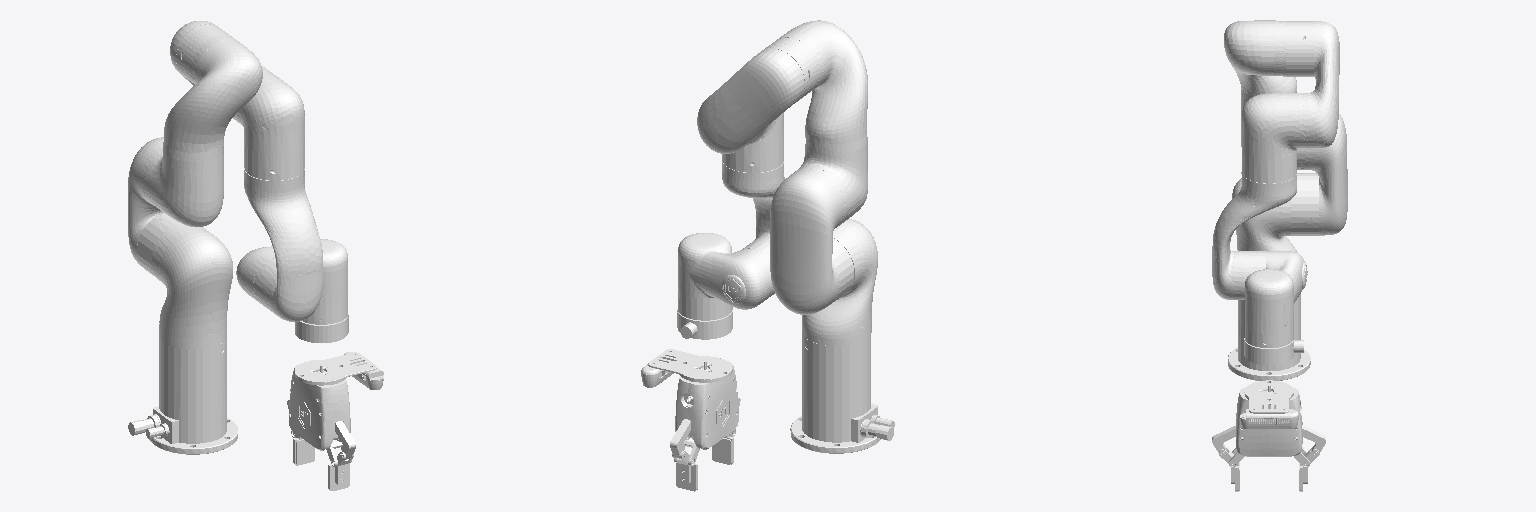
The robot description file, URDF, robot "converted_robot":
<?xml version="1.0" ?>
<robot name="converted_robot">
   <link name="world">
      <inertial>
         <origin xyz="0.0 0.0 0.0" rpy="0.0 0.0 0.0"/>
         <mass value="0.0"/>
         <inertia ixx="0.0" iyy="0.0" izz="0.0" ixy="0" ixz="0" iyz="0"/>
      </inertial>
      <visual name="base">
         <origin xyz="-0.001988568020268065 0.00011251475491376964 0.06484099137569184" rpy="0.04439421331694594 0.00023003077050942622 1.5061911797633354"/>
         <geometry>
            <mesh filename="converted_base.stl"/>
         </geometry>
         <material name="white"/>
      </visual>
   </link>
   <link name="link1">
      <inertial>
         <origin xyz="0.00022 0.02951 -0.0124" rpy="0.4355485641645795 -0.01151975215954959 0.03408854412398267"/>
         <mass value="2.3814"/>
         <inertia ixx="0.00585677" iyy="0.00544457" izz="0.00312311" ixy="0" ixz="0" iyz="0"/>
      </inertial>
      <visual name="link1">
         <origin xyz="-0.00013218954812539433 0.007464197279856433 -0.02711553977556827" rpy="-0.33362300930831684 0.0034678881741270207 -0.002737431020260937"/>
         <geometry>
            <mesh filename="converted_link1.stl"/>
         </geometry>
         <material name="white"/>
      </visual>
   </link>
   <link name="joint1">
      <inertial>
         <origin xyz="0.0 0.0 0.0" rpy="0.0 0.0 0.0"/>
         <mass value="0.001"/>
         <inertia ixx="1e-09" iyy="1e-09" izz="1e-09" ixy="0" ixz="0" iyz="0"/>
      </inertial>
   </link>
   <joint type="revolute" name="joint1">
      <parent link="world"/>
      <child link="joint1"/>
      <origin xyz="0.0 0.0 0.267" rpy="0.0 0.0 0.0"/>
      <axis xyz="0.0 0.0 1.0"/>
      <limit lower="-3.11018" upper="3.11018" effort="100" velocity="100"/>
   </joint>
   <joint type="fixed" name="joint1_offset">
      <parent link="joint1"/>
      <child link="link1"/>
      <origin xyz="-0.0 -0.0 -0.0" rpy="0.0 0.0 0.0"/>
   </joint>
   <link name="link2">
      <inertial>
         <origin xyz="0.03881 -0.22783 0.03496" rpy="1.348973079365043 0.589472079798409 -0.32201355688466154"/>
         <mass value="2.2675"/>
         <inertia ixx="0.0304531" iyy="0.0270745" izz="0.0039329" ixy="0" ixz="0" iyz="0"/>
      </inertial>
      <visual name="link2">
         <origin xyz="0.014875566187991445 -0.16194855468132002 0.02964404368210932" rpy="1.9174384122134032 0.3390205710115355 0.2968760087267535"/>
         <geometry>
            <mesh filename="converted_link2.stl"/>
         </geometry>
         <material name="white"/>
      </visual>
   </link>
   <link name="joint2">
      <inertial>
         <origin xyz="0.0 0.0 0.0" rpy="0.0 0.0 0.0"/>
         <mass value="0.001"/>
         <inertia ixx="1e-09" iyy="1e-09" izz="1e-09" ixy="0" ixz="0" iyz="0"/>
      </inertial>
   </link>
   <joint type="revolute" name="joint2">
      <parent link="link1"/>
      <child link="joint2"/>
      <origin xyz="0.0 0.0 0.0" rpy="-1.5708005694372709 0.0 0.0"/>
      <axis xyz="0.0 0.0 1.0"/>
      <limit lower="-2.059" upper="2.0944" effort="100" velocity="100"/>
   </joint>
   <joint type="fixed" name="joint2_offset">
      <parent link="joint2"/>
      <child link="link2"/>
      <origin xyz="-0.0 -0.0 -0.0" rpy="0.0 0.0 0.0"/>
   </joint>
   <link name="link3">
      <inertial>
         <origin xyz="0.07041 0.11631 0.0107" rpy="-2.107790652059732 -0.6582306530693534 -2.515252296079175"/>
         <mass value="1.875"/>
         <inertia ixx="0.00536785" iyy="0.00536785" izz="0.00536785" ixy="0" ixz="0" iyz="0"/>
      </inertial>
      <visual name="link3">
         <origin xyz="0.05915374366666802 0.07651418456626077 0.04021116008138051" rpy="0.9997568989372841 0.1766060258401485 -0.6619722856298305"/>
         <geometry>
            <mesh filename="converted_link3.stl"/>
         </geometry>
         <material name="white"/>
      </visual>
   </link>
   <link name="joint3">
      <inertial>
         <origin xyz="0.0 0.0 0.0" rpy="0.0 0.0 0.0"/>
         <mass value="0.001"/>
         <inertia ixx="1e-09" iyy="1e-09" izz="1e-09" ixy="0" ixz="0" iyz="0"/>
      </inertial>
   </link>
   <joint type="revolute" name="joint3">
      <parent link="link2"/>
      <child link="joint3"/>
      <origin xyz="0.0535 -0.2845 0.0" rpy="0.0 0.0 0.0"/>
      <axis xyz="0.0 0.0 1.0"/>
      <limit lower="-3.11018" upper="0.19198" effort="100" velocity="100"/>
   </joint>
   <joint type="fixed" name="joint3_offset">
      <parent link="joint3"/>
      <child link="link3"/>
      <origin xyz="-0.0 -0.0 -0.0" rpy="0.0 0.0 0.0"/>
   </joint>
   <link name="link4">
      <inertial>
         <origin xyz="-0.00018 0.01798 -0.02291" rpy="0.07382928357874731 -0.005198268016330498 0.01850720867997557"/>
         <mass value="1.3192"/>
         <inertia ixx="0.0048962" iyy="0.00447396" izz="0.0013261" ixy="0" ixz="0" iyz="0"/>
      </inertial>
      <visual name="link4">
         <origin xyz="-0.0001933115420370148 0.031599603176915084 -0.07229682669267906" rpy="-0.2899363380198844 0.004123601154868206 0.015988586424917947"/>
         <geometry>
            <mesh filename="converted_link4.stl"/>
         </geometry>
         <material name="white"/>
      </visual>
   </link>
   <link name="joint4">
      <inertial>
         <origin xyz="0.0 0.0 0.0" rpy="0.0 0.0 0.0"/>
         <mass value="0.001"/>
         <inertia ixx="1e-09" iyy="1e-09" izz="1e-09" ixy="0" ixz="0" iyz="0"/>
      </inertial>
   </link>
   <joint type="revolute" name="joint4">
      <parent link="link3"/>
      <child link="joint4"/>
      <origin xyz="0.0775 0.3425 0.0" rpy="-1.5708005694372709 0.0 0.0"/>
      <axis xyz="0.0 0.0 1.0"/>
      <limit lower="-3.11018" upper="3.11018" effort="100" velocity="100"/>
   </joint>
   <joint type="fixed" name="joint4_offset">
      <parent link="joint4"/>
      <child link="link4"/>
      <origin xyz="-0.0 -0.0 -0.0" rpy="0.0 0.0 0.0"/>
   </joint>
   <link name="link5">
      <inertial>
         <origin xyz="0.0651 0.03096 0.00315" rpy="-1.3129473580943467 -0.9673430130256786 -2.33246926539584"/>
         <mass value="1.33854"/>
         <inertia ixx="0.00253403" iyy="0.00196507" izz="0.00114012" ixy="0" ixz="0" iyz="0"/>
      </inertial>
      <visual name="link5">
         <origin xyz="0.048892960928717207 0.011180520389591274 0.009056193467818132" rpy="-2.9389689832315877 -1.280443051852528 0.09467892860533325"/>
         <geometry>
            <mesh filename="converted_link5.stl"/>
         </geometry>
         <material name="white"/>
      </visual>
   </link>
   <link name="joint5">
      <inertial>
         <origin xyz="0.0 0.0 0.0" rpy="0.0 0.0 0.0"/>
         <mass value="0.001"/>
         <inertia ixx="1e-09" iyy="1e-09" izz="1e-09" ixy="0" ixz="0" iyz="0"/>
      </inertial>
   </link>
   <joint type="revolute" name="joint5">
      <parent link="link4"/>
      <child link="joint5"/>
      <origin xyz="0.0 0.0 0.0" rpy="1.5708005694372709 0.0 0.0"/>
      <axis xyz="0.0 0.0 1.0"/>
      <limit lower="-1.69297" upper="3.11018" effort="100" velocity="100"/>
   </joint>
   <joint type="fixed" name="joint5_offset">
      <parent link="joint5"/>
      <child link="link5"/>
      <origin xyz="-0.0 -0.0 -0.0" rpy="0.0 0.0 0.0"/>
   </joint>
   <link name="link6">
      <inertial>
         <origin xyz="0.0046396 -0.00165489 0.0681261" rpy="0.020458185813497568 0.026800705860281715 1.5773080767471808"/>
         <mass value="1.38018"/>
         <inertia ixx="0.00334838" iyy="0.00302786" izz="0.0011071" ixy="0" ixz="0" iyz="0"/>
      </inertial>
      <visual name="end_tool">
         <origin xyz="3.4268701643423586e-08 -0.001435304389793365 -0.013516014948721122" rpy="-3.1415761422693795 -1.5687955686077422 -1.5707963267948966"/>
         <geometry>
            <mesh filename="converted_end_tool.stl"/>
         </geometry>
         <material name="white"/>
      </visual>
      <visual name="ft_sensor_scaled">
         <origin xyz="-0.0025413173168710784 0.0012844602929361069 0.02934122839286124" rpy="-3.106501645314344 -1.3615361730076154 2.57565154603999"/>
         <geometry>
            <mesh filename="converted_ft_sensor_scaled.stl"/>
         </geometry>
         <material name="white"/>
      </visual>
      <visual name="d435_with_cam_stand">
         <origin xyz="0.05319046898036692 -0.0010342940638096278 0.072628412908257" rpy="-0.03274316095589082 -1.381627305955616 3.139114546177682"/>
         <geometry>
            <mesh filename="converted_d435_with_cam_stand.stl"/>
         </geometry>
         <material name="white"/>
      </visual>
      <visual name="base_link">
         <origin xyz="-0.0013675233777249022 0.00018071029397544007 0.10590832027619651" rpy="0.03567861154889 -0.06311112110604888 -0.00044563792998500315"/>
         <geometry>
            <mesh filename="converted_base_link.stl"/>
         </geometry>
         <material name="white"/>
      </visual>
   </link>
   <link name="joint6">
      <inertial>
         <origin xyz="0.0 0.0 0.0" rpy="0.0 0.0 0.0"/>
         <mass value="0.001"/>
         <inertia ixx="1e-09" iyy="1e-09" izz="1e-09" ixy="0" ixz="0" iyz="0"/>
      </inertial>
   </link>
   <joint type="revolute" name="joint6">
      <parent link="link5"/>
      <child link="joint6"/>
      <origin xyz="0.076 0.097 0.0" rpy="-1.5708005694372709 0.0 0.0"/>
      <axis xyz="0.0 0.0 1.0"/>
      <limit lower="-3.11018" upper="3.11018" effort="100" velocity="100"/>
   </joint>
   <joint type="fixed" name="joint6_offset">
      <parent link="joint6"/>
      <child link="link6"/>
      <origin xyz="-0.0 -0.0 -0.0" rpy="0.0 0.0 0.0"/>
   </joint>
   <link name="link_eef">
      <inertial>
         <origin xyz="0.0 0.0 0.0" rpy="0.0 0.0 0.0"/>
         <mass value="0.0"/>
         <inertia ixx="0.0" iyy="0.0" izz="0.0" ixy="0" ixz="0" iyz="0"/>
      </inertial>
   </link>
   <link name="link62link_eef_fixed">
      <inertial>
         <origin xyz="0.0 0.0 0.0" rpy="0.0 0.0 0.0"/>
         <mass value="0.001"/>
         <inertia ixx="1e-09" iyy="1e-09" izz="1e-09" ixy="0" ixz="0" iyz="0"/>
      </inertial>
   </link>
   <joint type="fixed" name="link62link_eef_fixed">
      <parent link="link6"/>
      <child link="link62link_eef_fixed"/>
      <origin xyz="0.0 0.0 0.0" rpy="0.0 0.0 0.0"/>
   </joint>
   <joint type="fixed" name="link62link_eef_fixed_offset">
      <parent link="link62link_eef_fixed"/>
      <child link="link_eef"/>
      <origin xyz="-0.0 -0.0 -0.0" rpy="0.0 0.0 0.0"/>
   </joint>
   <link name="link_tcp">
      <inertial>
         <origin xyz="0.0 0.0 0.0" rpy="0.0 0.0 0.0"/>
         <mass value="0.0"/>
         <inertia ixx="0.0" iyy="0.0" izz="0.0" ixy="0" ixz="0" iyz="0"/>
      </inertial>
   </link>
   <link name="link_eef2link_tcp_fixed">
      <inertial>
         <origin xyz="0.0 0.0 0.0" rpy="0.0 0.0 0.0"/>
         <mass value="0.001"/>
         <inertia ixx="1e-09" iyy="1e-09" izz="1e-09" ixy="0" ixz="0" iyz="0"/>
      </inertial>
   </link>
   <joint type="fixed" name="link_eef2link_tcp_fixed">
      <parent link="link_eef"/>
      <child link="link_eef2link_tcp_fixed"/>
      <origin xyz="0.0 0.0 0.2" rpy="-1.5699435554720513 -1.5664889788184846 -1.5716491060286246"/>
   </joint>
   <joint type="fixed" name="link_eef2link_tcp_fixed_offset">
      <parent link="link_eef2link_tcp_fixed"/>
      <child link="link_tcp"/>
      <origin xyz="-0.0 -0.0 -0.0" rpy="0.0 0.0 0.0"/>
   </joint>
   <link name="left_outer_knuckle">
      <inertial>
         <origin xyz="0.0 0.021559 0.015181" rpy="2.145090756651822 0.0 0.0"/>
         <mass value="0.033618"/>
         <inertia ixx="1.9111e-05" iyy="1.79089e-05" izz="1.90167e-06" ixy="0" ixz="0" iyz="0"/>
      </inertial>
      <visual name="left_outer_knuckle">
         <origin xyz="2.459128747530784e-11 0.01732745566852309 0.015107389964830558" rpy="2.135531627703855 0.0 0.0"/>
         <geometry>
            <mesh filename="converted_left_outer_knuckle.stl"/>
         </geometry>
         <material name="white"/>
      </visual>
   </link>
   <link name="drive_joint">
      <inertial>
         <origin xyz="0.0 0.0 0.0" rpy="0.0 0.0 0.0"/>
         <mass value="0.001"/>
         <inertia ixx="1e-09" iyy="1e-09" izz="1e-09" ixy="0" ixz="0" iyz="0"/>
      </inertial>
   </link>
   <joint type="revolute" name="drive_joint">
      <parent link="link_eef"/>
      <child link="drive_joint"/>
      <origin xyz="0.0 0.035 0.119098" rpy="0.0 0.0 0.0"/>
      <axis xyz="1.0 0.0 0.0"/>
      <limit lower="0.0" upper="0.85" effort="100" velocity="100"/>
   </joint>
   <joint type="fixed" name="drive_joint_offset">
      <parent link="drive_joint"/>
      <child link="left_outer_knuckle"/>
      <origin xyz="-0.0 -0.0 -0.0" rpy="0.0 0.0 0.0"/>
   </joint>
   <link name="left_finger">
      <inertial>
         <origin xyz="0.0 -0.016413 0.029258" rpy="0.0 -0.32773246497472885 1.5707963267948966"/>
         <mass value="0.048304"/>
         <inertia ixx="1.88037e-05" iyy="1.7493e-05" izz="3.56792e-06" ixy="0" ixz="0" iyz="0"/>
      </inertial>
      <visual name="left_finger">
         <origin xyz="1.4807619616801453e-05 -0.015549807258493559 0.028040098559196317" rpy="-0.001912485275442726 -0.365143411739667 1.5726924743770283"/>
         <geometry>
            <mesh filename="converted_left_finger.stl"/>
         </geometry>
         <material name="white"/>
      </visual>
   </link>
   <link name="left_finger_joint">
      <inertial>
         <origin xyz="0.0 0.0 0.0" rpy="0.0 0.0 0.0"/>
         <mass value="0.001"/>
         <inertia ixx="1e-09" iyy="1e-09" izz="1e-09" ixy="0" ixz="0" iyz="0"/>
      </inertial>
   </link>
   <joint type="revolute" name="left_finger_joint">
      <parent link="left_outer_knuckle"/>
      <child link="left_finger_joint"/>
      <origin xyz="0.0 0.035465 0.042039" rpy="0.0 0.0 0.0"/>
      <axis xyz="-1.0 0.0 0.0"/>
      <limit lower="0.0" upper="0.85" effort="100" velocity="100"/>
   </joint>
   <joint type="fixed" name="left_finger_joint_offset">
      <parent link="left_finger_joint"/>
      <child link="left_finger"/>
      <origin xyz="-0.0 -0.0 -0.0" rpy="0.0 0.0 0.0"/>
   </joint>
   <link name="left_inner_knuckle">
      <inertial>
         <origin xyz="1.86601e-06 0.0220468 0.0261335" rpy="-2.8572677202568355e-05 0.7007746676036897 1.5707964243166743"/>
         <mass value="0.0230126"/>
         <inertia ixx="8.34216e-06" iyy="6.0949e-06" izz="2.75601e-06" ixy="0" ixz="0" iyz="0"/>
      </inertial>
      <visual name="left_inner_knuckle">
         <origin xyz="2.8477847106074318e-05 0.020923749754326485 0.02480264390787294" rpy="0.002795912857278782 0.7007662187921664 1.5706785731507964"/>
         <geometry>
            <mesh filename="converted_left_inner_knuckle.stl"/>
         </geometry>
         <material name="white"/>
      </visual>
   </link>
   <link name="left_inner_knuckle_joint">
      <inertial>
         <origin xyz="0.0 0.0 0.0" rpy="0.0 0.0 0.0"/>
         <mass value="0.001"/>
         <inertia ixx="1e-09" iyy="1e-09" izz="1e-09" ixy="0" ixz="0" iyz="0"/>
      </inertial>
   </link>
   <joint type="revolute" name="left_inner_knuckle_joint">
      <parent link="link_eef"/>
      <child link="left_inner_knuckle_joint"/>
      <origin xyz="0.0 0.02 0.134098" rpy="0.0 0.0 0.0"/>
      <axis xyz="1.0 0.0 0.0"/>
      <limit lower="0.0" upper="0.85" effort="100" velocity="100"/>
   </joint>
   <joint type="fixed" name="left_inner_knuckle_joint_offset">
      <parent link="left_inner_knuckle_joint"/>
      <child link="left_inner_knuckle"/>
      <origin xyz="-0.0 -0.0 -0.0" rpy="0.0 0.0 0.0"/>
   </joint>
   <link name="right_outer_knuckle">
      <inertial>
         <origin xyz="0.0 -0.021559 0.015181" rpy="0.9965018969379716 0.0 0.0"/>
         <mass value="0.033618"/>
         <inertia ixx="1.9111e-05" iyy="1.79089e-05" izz="1.90167e-06" ixy="0" ixz="0" iyz="0"/>
      </inertial>
      <visual name="right_outer_knuckle">
         <origin xyz="-2.459128747530784e-11 -0.01732745566852309 0.015107389964830558" rpy="1.0060610258859382 0.0 0.0"/>
         <geometry>
            <mesh filename="converted_right_outer_knuckle.stl"/>
         </geometry>
         <material name="white"/>
      </visual>
   </link>
   <link name="right_outer_knuckle_joint">
      <inertial>
         <origin xyz="0.0 0.0 0.0" rpy="0.0 0.0 0.0"/>
         <mass value="0.001"/>
         <inertia ixx="1e-09" iyy="1e-09" izz="1e-09" ixy="0" ixz="0" iyz="0"/>
      </inertial>
   </link>
   <joint type="revolute" name="right_outer_knuckle_joint">
      <parent link="link_eef"/>
      <child link="right_outer_knuckle_joint"/>
      <origin xyz="0.0 -0.035 0.119098" rpy="0.0 0.0 0.0"/>
      <axis xyz="-1.0 0.0 0.0"/>
      <limit lower="0.0" upper="0.85" effort="100" velocity="100"/>
   </joint>
   <joint type="fixed" name="right_outer_knuckle_joint_offset">
      <parent link="right_outer_knuckle_joint"/>
      <child link="right_outer_knuckle"/>
      <origin xyz="-0.0 -0.0 -0.0" rpy="0.0 0.0 0.0"/>
   </joint>
   <link name="right_finger">
      <inertial>
         <origin xyz="0.0 0.016413 0.029258" rpy="0.0 0.32774083658509623 1.5707963267948966"/>
         <mass value="0.048304"/>
         <inertia ixx="1.88038e-05" iyy="1.7493e-05" izz="3.56779e-06" ixy="0" ixz="0" iyz="0"/>
      </inertial>
      <visual name="right_finger">
         <origin xyz="2.8375271036235104e-05 0.015532154030621503 0.028008582622386046" rpy="-0.0036607875176824455 0.3654430266742408 1.5671143312790885"/>
         <geometry>
            <mesh filename="converted_right_finger.stl"/>
         </geometry>
         <material name="white"/>
      </visual>
   </link>
   <link name="right_finger_joint">
      <inertial>
         <origin xyz="0.0 0.0 0.0" rpy="0.0 0.0 0.0"/>
         <mass value="0.001"/>
         <inertia ixx="1e-09" iyy="1e-09" izz="1e-09" ixy="0" ixz="0" iyz="0"/>
      </inertial>
   </link>
   <joint type="revolute" name="right_finger_joint">
      <parent link="right_outer_knuckle"/>
      <child link="right_finger_joint"/>
      <origin xyz="0.0 -0.035465 0.042039" rpy="0.0 0.0 0.0"/>
      <axis xyz="1.0 0.0 0.0"/>
      <limit lower="0.0" upper="0.85" effort="100" velocity="100"/>
   </joint>
   <joint type="fixed" name="right_finger_joint_offset">
      <parent link="right_finger_joint"/>
      <child link="right_finger"/>
      <origin xyz="-0.0 -0.0 -0.0" rpy="0.0 0.0 0.0"/>
   </joint>
   <link name="right_inner_knuckle">
      <inertial>
         <origin xyz="1.866e-06 -0.022047 0.026133" rpy="-2.920732354600332e-05 -0.7007410762952847 1.5707979664218301"/>
         <mass value="0.023013"/>
         <inertia ixx="8.34209e-06" iyy="6.0949e-06" izz="2.75601e-06" ixy="0" ixz="0" iyz="0"/>
      </inertial>
      <visual name="right_inner_knuckle">
         <origin xyz="-3.4343823358275674e-06 -0.02092196405530607 0.024800978324764668" rpy="-0.0003842496110303283 -0.700727986800333 1.5708075585716363"/>
         <geometry>
            <mesh filename="converted_right_inner_knuckle.stl"/>
         </geometry>
         <material name="white"/>
      </visual>
   </link>
   <link name="right_inner_knuckle_joint">
      <inertial>
         <origin xyz="0.0 0.0 0.0" rpy="0.0 0.0 0.0"/>
         <mass value="0.001"/>
         <inertia ixx="1e-09" iyy="1e-09" izz="1e-09" ixy="0" ixz="0" iyz="0"/>
      </inertial>
   </link>
   <joint type="revolute" name="right_inner_knuckle_joint">
      <parent link="link_eef"/>
      <child link="right_inner_knuckle_joint"/>
      <origin xyz="0.0 -0.02 0.134098" rpy="0.0 0.0 0.0"/>
      <axis xyz="-1.0 0.0 0.0"/>
      <limit lower="0.0" upper="0.85" effort="100" velocity="100"/>
   </joint>
   <joint type="fixed" name="right_inner_knuckle_joint_offset">
      <parent link="right_inner_knuckle_joint"/>
      <child link="right_inner_knuckle"/>
      <origin xyz="-0.0 -0.0 -0.0" rpy="0.0 0.0 0.0"/>
   </joint>
   <link name="spoon">
      <inertial>
         <origin xyz="0.11445137782354108 -0.00013732493883597768 -0.00013556152663841278" rpy="1.5708002471881757 3.036328703798219e-06 1.5473716817218728"/>
         <mass value="0.025"/>
         <inertia ixx="2.8617567605405535e-05" iyy="2.7902487045757164e-05" izz="1.2129332458179779e-06" ixy="0" ixz="0" iyz="0"/>
      </inertial>
   </link>
   <link name="link_eef2spoon_fixed">
      <inertial>
         <origin xyz="0.0 0.0 0.0" rpy="0.0 0.0 0.0"/>
         <mass value="0.001"/>
         <inertia ixx="1e-09" iyy="1e-09" izz="1e-09" ixy="0" ixz="0" iyz="0"/>
      </inertial>
   </link>
   <joint type="fixed" name="link_eef2spoon_fixed">
      <parent link="link_eef"/>
      <child link="link_eef2spoon_fixed"/>
      <origin xyz="0.0 0.0 0.2" rpy="-0.6256137488497641 -1.5707917954451251 -2.5159789047421195"/>
   </joint>
   <joint type="fixed" name="link_eef2spoon_fixed_offset">
      <parent link="link_eef2spoon_fixed"/>
      <child link="spoon"/>
      <origin xyz="-0.0 -0.0 -0.0" rpy="0.0 0.0 0.0"/>
   </joint>
   <material name="white">
      <color rgba="1 1 1 1"/>
   </material>
</robot>

--- What the picture shows (computed from the rendered views, not written in the file) ---
The picture shows the robot from 3 angles, left to right: view 1: azimuth 30°, elevation 25°; view 2: azimuth 150°, elevation 25°; view 3: azimuth 270°, elevation 25°; orthographic projection.
Model converted_robot with 31 links and 30 joints (12 revolute, 18 fixed), rooted at world, posed every joint at zero.
Links seen in each view (by area): view 1: link2, link1, link4, world, link6, link3, link5, left_finger; view 2: link2, link3, world, link6, link5, link1, link4, right_finger; view 3: link2, link3, link6, link5, link4, link1, world.
Boxes of the visible links, x1=… form: link2: x1=128, y1=24, x2=262, y2=266; link1: x1=137, y1=213, x2=232, y2=349; link4: x1=244, y1=168, x2=322, y2=321; world: x1=128, y1=338, x2=237, y2=454; link6: x1=289, y1=314, x2=383, y2=450; link3: x1=170, y1=21, x2=304, y2=180; link5: x1=236, y1=239, x2=347, y2=324; left_finger: x1=328, y1=452, x2=353, y2=490; link2: x1=762, y1=20, x2=867, y2=314; link3: x1=697, y1=49, x2=804, y2=172; world: x1=790, y1=334, x2=894, y2=453; link6: x1=641, y1=309, x2=738, y2=449; link5: x1=678, y1=233, x2=774, y2=320; link1: x1=802, y1=219, x2=877, y2=345; link4: x1=722, y1=161, x2=784, y2=294; right_finger: x1=672, y1=451, x2=697, y2=491; link2: x1=1224, y1=20, x2=1347, y2=235; link3: x1=1241, y1=21, x2=1339, y2=183; link6: x1=1236, y1=338, x2=1303, y2=456; link5: x1=1245, y1=251, x2=1307, y2=347; link4: x1=1212, y1=172, x2=1296, y2=299; link1: x1=1232, y1=173, x2=1318, y2=252; world: x1=1228, y1=294, x2=1310, y2=380.
Size in the robot's own frame: 0.3793 by 0.2055 by 0.7045 metres.
15 mesh visuals loaded from 16 distinct referenced files (15 binary STL); not drawn: 1 (reference not matched to a file when rendering).
